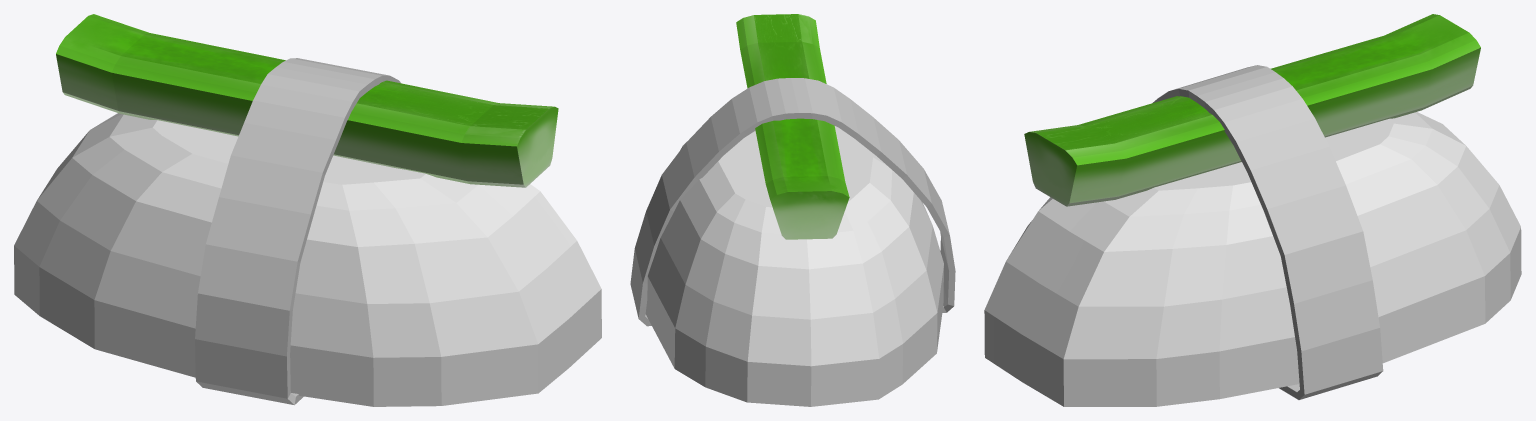
Rendered from nigiri_veg.fbx.
3 renders of one model, left to right at view 1: azimuth 30°, elevation 25°; view 2: azimuth 150°, elevation 25°; view 3: azimuth 270°, elevation 25°, orthographic. The views are drawn at different scales.
Visible parts, largest first — view 1: Cube_Cube.005; view 2: Cube_Cube.005; view 3: Cube_Cube.005.
Part boxes in pixels (x1=…): Cube_Cube.005: x1=14, y1=14, x2=601, y2=406; Cube_Cube.005: x1=630, y1=14, x2=955, y2=406; Cube_Cube.005: x1=984, y1=14, x2=1521, y2=406.
Bounding box in the file's own units: 65.26 × 39.18 × 78.61.
